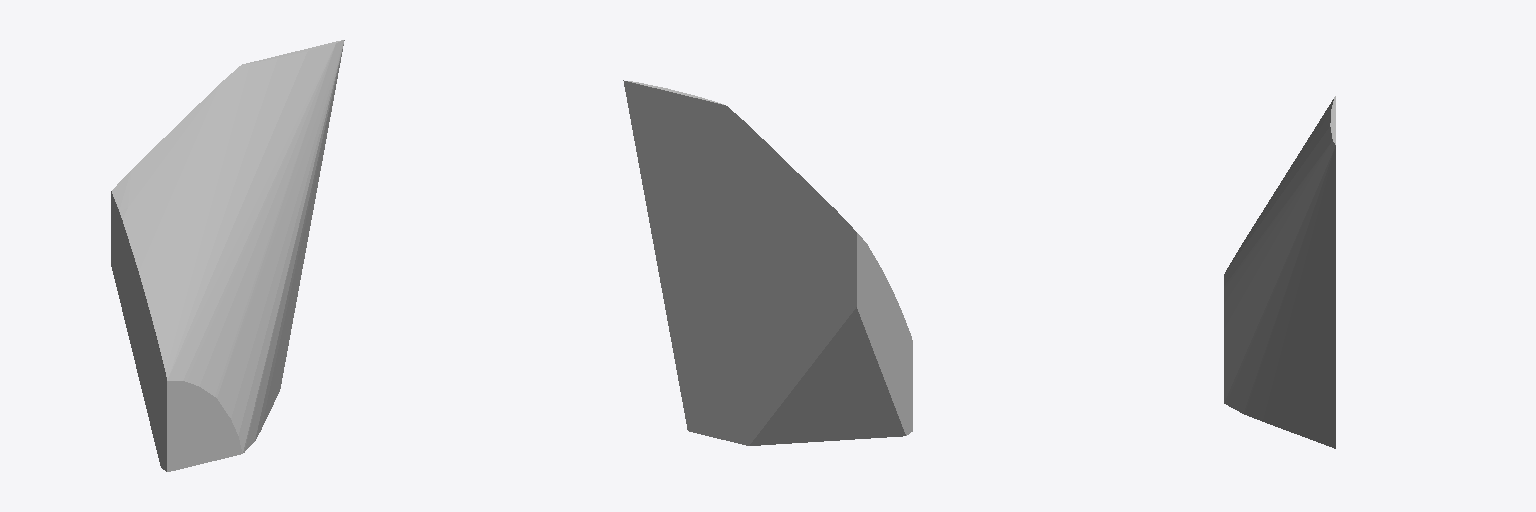
Rendered from phantom-elastrat_collision_279.obj.
The picture shows the model from 3 angles: view 1: azimuth 30°, elevation 25°; view 2: azimuth 150°, elevation 25°; view 3: azimuth 270°, elevation 25°; orthographic projection.
Bounding box in the file's own units: 0.0091 × 0.0125 × 0.0038.